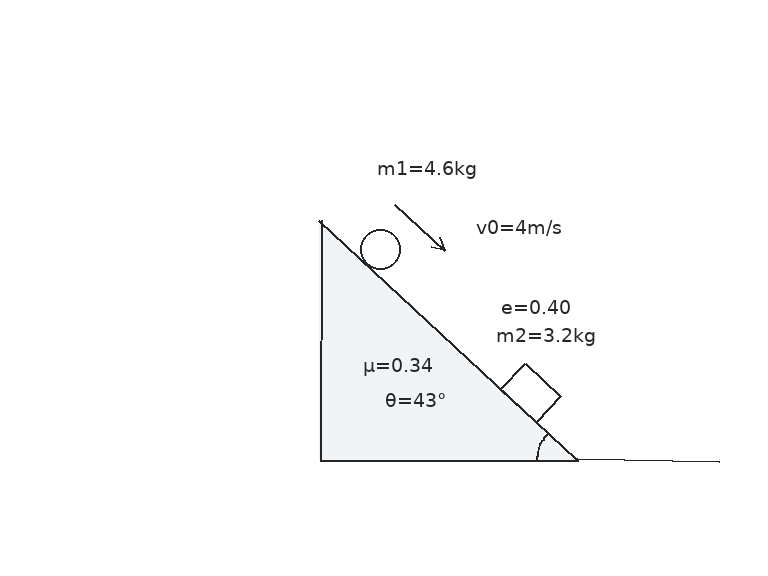ball: (358, 227, 402, 271)
block: (499, 361, 563, 424)
ramp: (318, 218, 579, 462)
